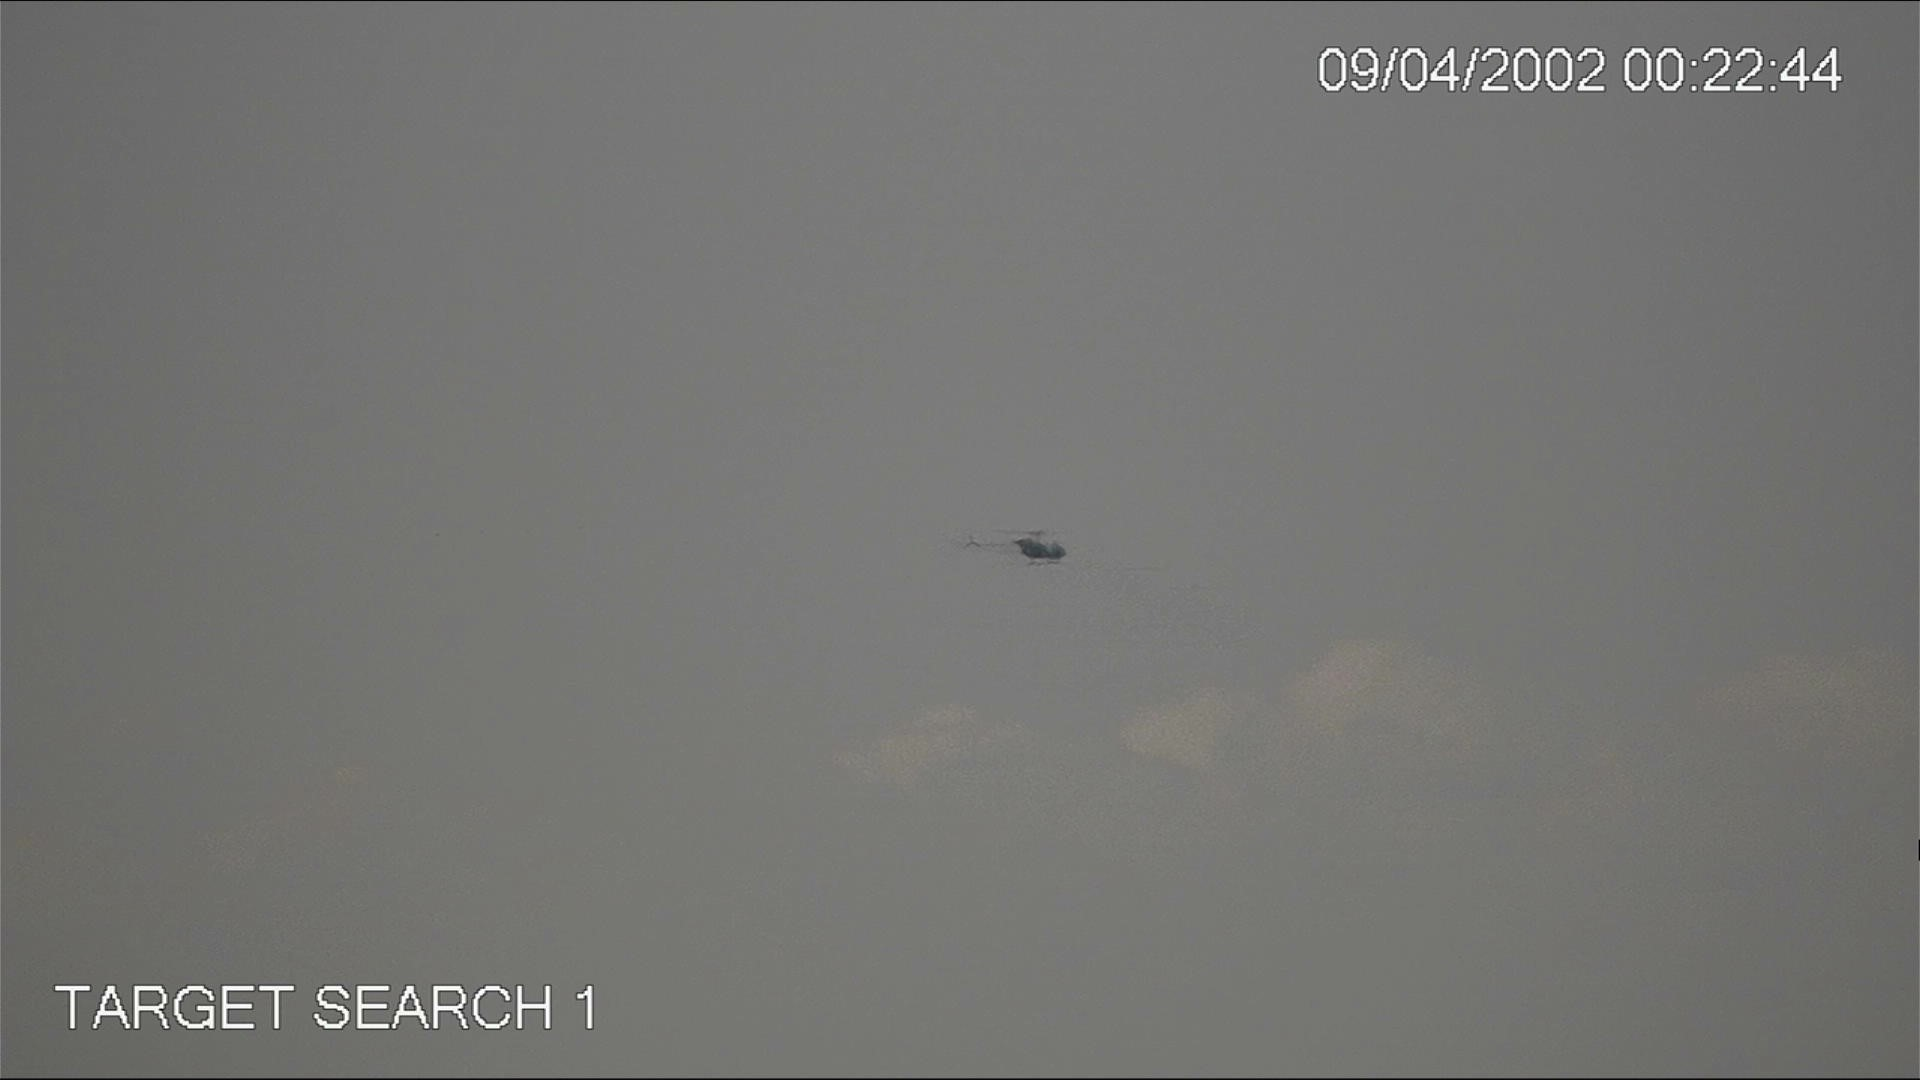SU_30: (949, 521, 1073, 564)
